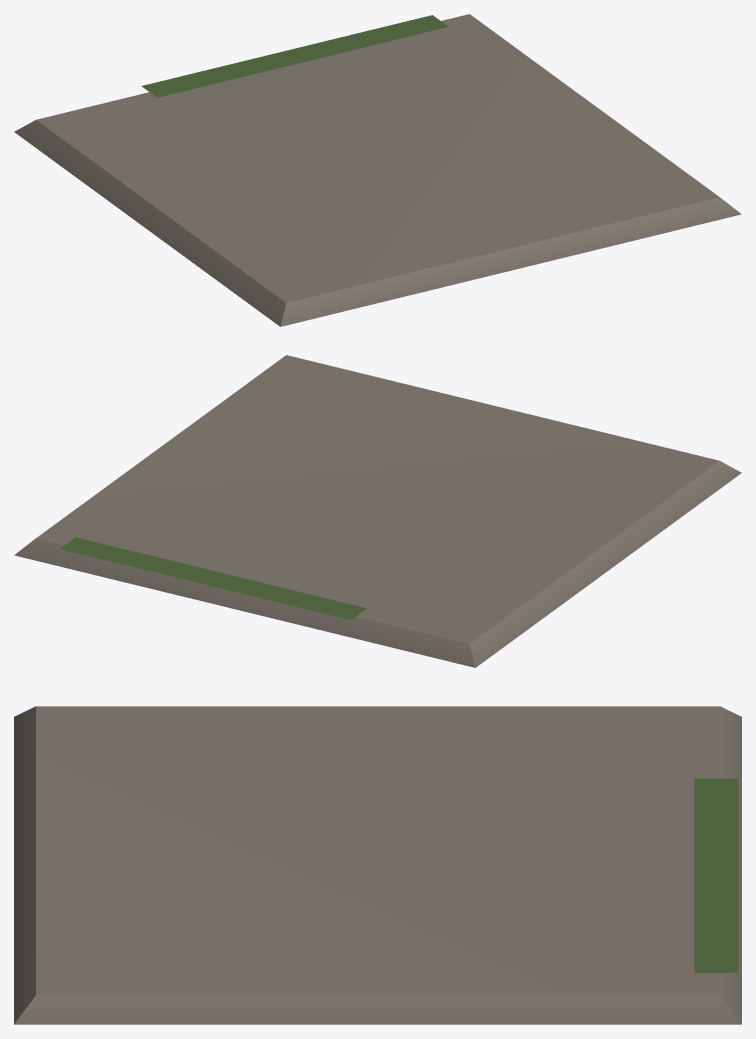
Rendered from ruins-floor-c-low.glb.
3 views of the same model, one above another, from view 1: azimuth 30°, elevation 25°; view 2: azimuth 150°, elevation 25°; view 3: azimuth 270°, elevation 25° (orthographic). The views are drawn at different scales.
Visible parts, largest first — view 1: 0_ruins_floor_c; view 2: 0_ruins_floor_c; view 3: 0_ruins_floor_c.
Boxes of the visible parts, box(x1,y1,x2,y2) form: 0_ruins_floor_c: box(14, 14, 741, 326); 0_ruins_floor_c: box(14, 355, 741, 667); 0_ruins_floor_c: box(14, 706, 741, 1024).
Bounding box in the file's own units: 1.98 × 0.066 × 1.98.
